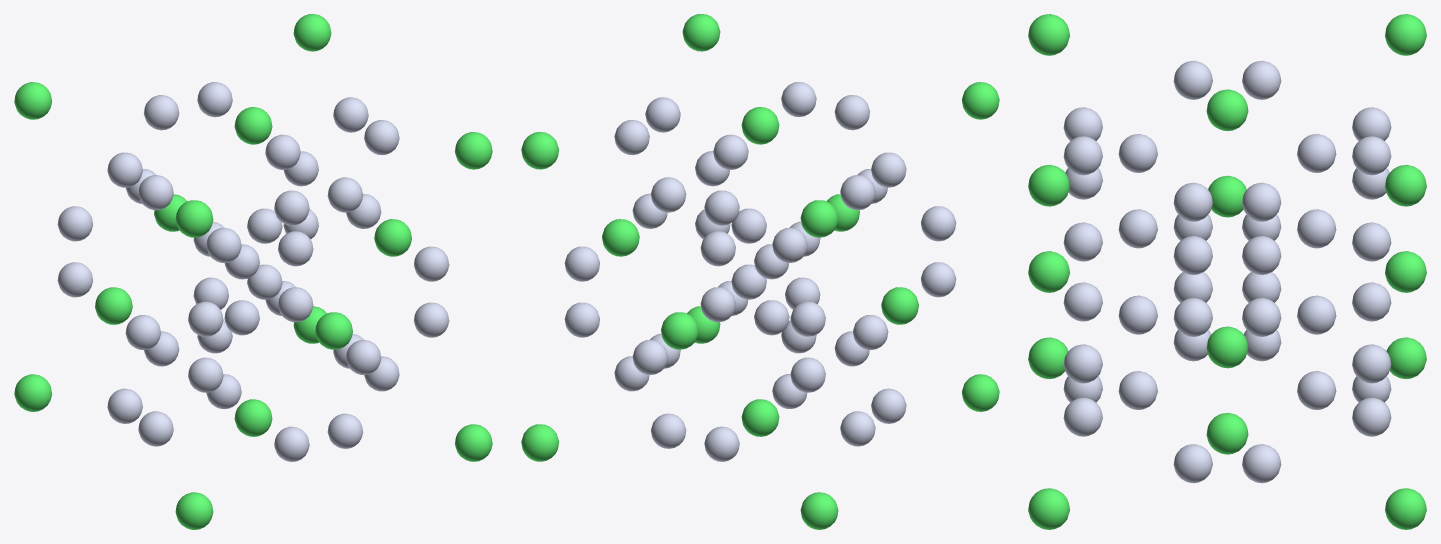
3 views of the same model, side by side, from view 1: azimuth 30°, elevation 25°; view 2: azimuth 150°, elevation 25°; view 3: azimuth 270°, elevation 25° (orthographic). The views are drawn at different scales.
Visible parts, largest first — view 1: atom2_IndexedFaceSet, atom0_IndexedFaceSet; view 2: atom2_IndexedFaceSet, atom0_IndexedFaceSet; view 3: atom2_IndexedFaceSet, atom0_IndexedFaceSet.
Boxes of the visible parts, x1=… form: atom2_IndexedFaceSet: x1=57, y1=82, x2=449, y2=461; atom0_IndexedFaceSet: x1=14, y1=14, x2=492, y2=529; atom2_IndexedFaceSet: x1=564, y1=82, x2=956, y2=461; atom0_IndexedFaceSet: x1=521, y1=14, x2=999, y2=529; atom2_IndexedFaceSet: x1=1063, y1=60, x2=1391, y2=483; atom0_IndexedFaceSet: x1=1028, y1=14, x2=1426, y2=529.
Size of the model in its own units: 6.8 by 6.79 by 6.8.
